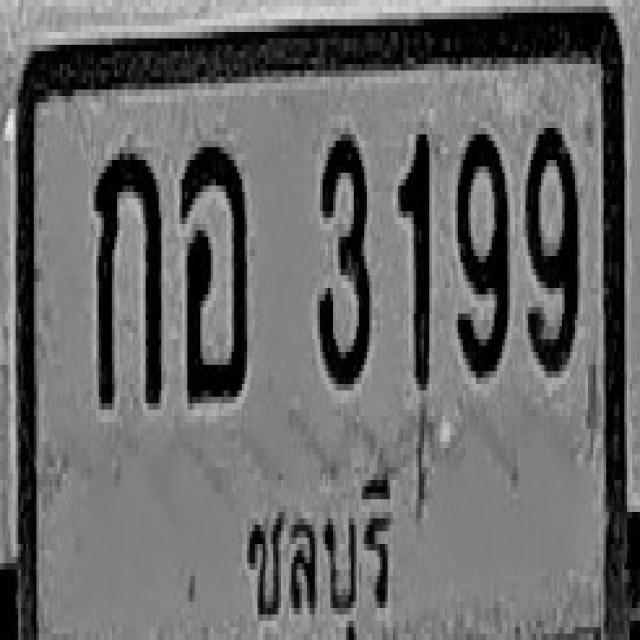1: (396, 128, 431, 390)
10GorGai: (94, 147, 161, 403)
3: (318, 128, 370, 384)
52OrAng: (180, 141, 247, 397)
9: (526, 122, 578, 371), (456, 132, 508, 374)
Chonburi: (236, 461, 398, 640)
